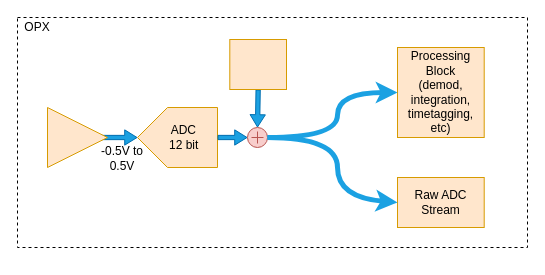
This 545x275 diagram has some shape labels left out. Here are the shapes that lost their labels. From the top down, the centre of each, then its label:
point 257,64: input offset (digitized)
point 77,137: gain
